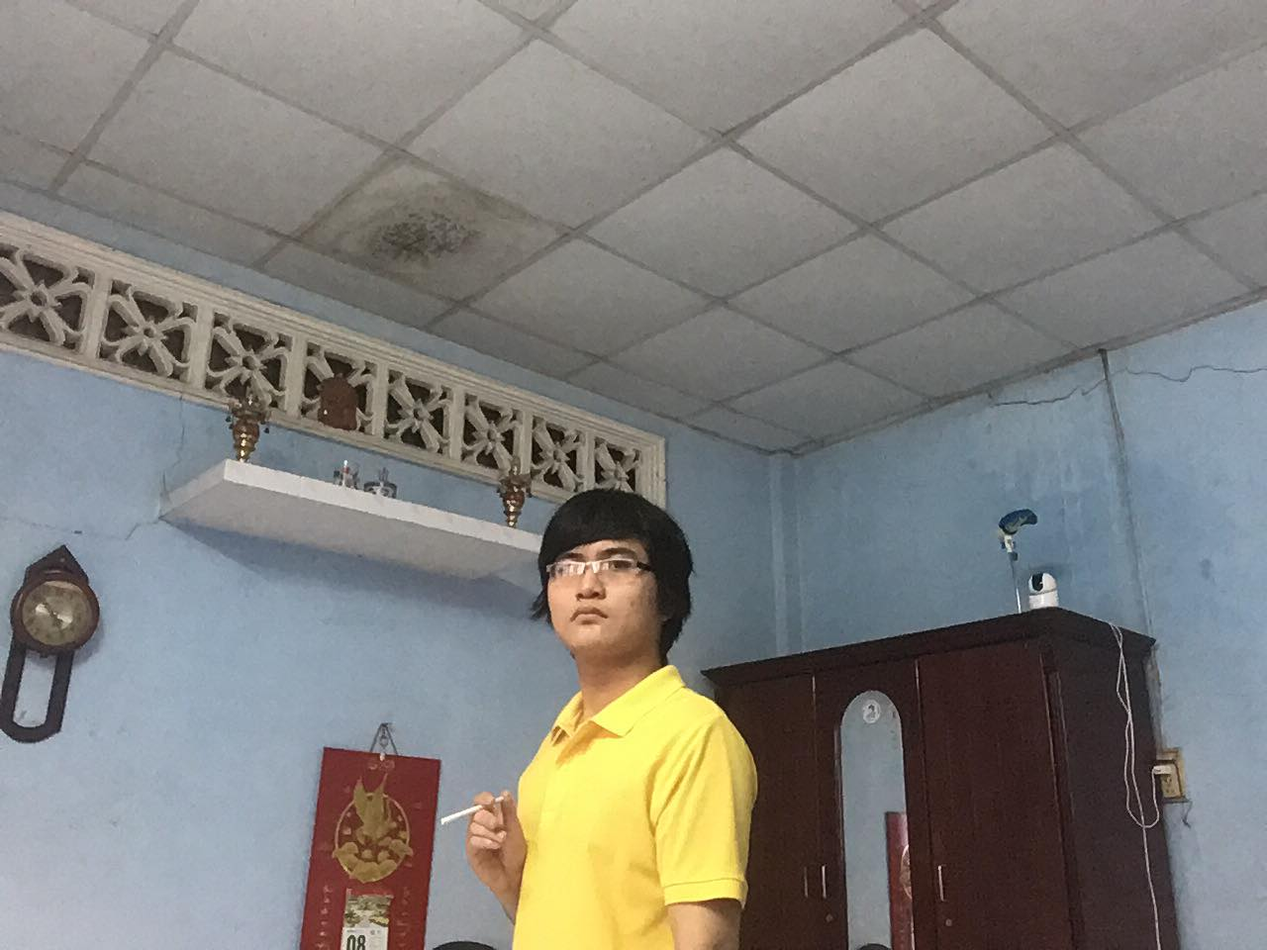cigarette: (434, 804, 478, 830)
person: (436, 490, 762, 950)
